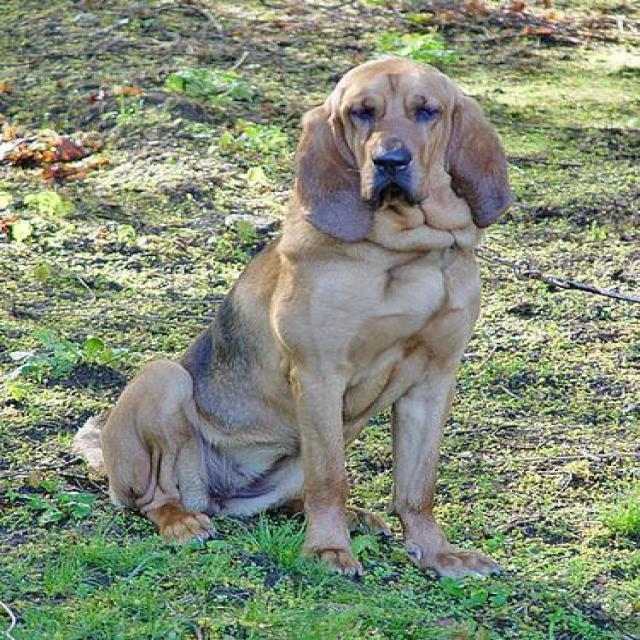bloodhound: (102, 55, 514, 585)
